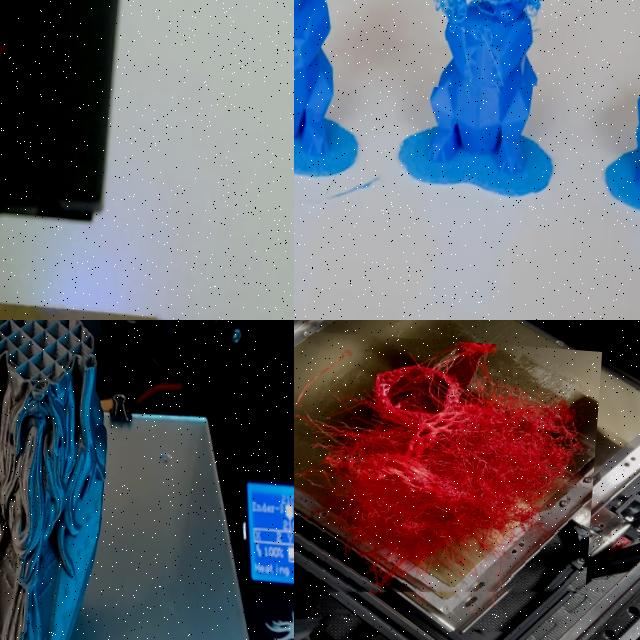spaghetti: (294, 329, 602, 613), (429, 0, 546, 87)
